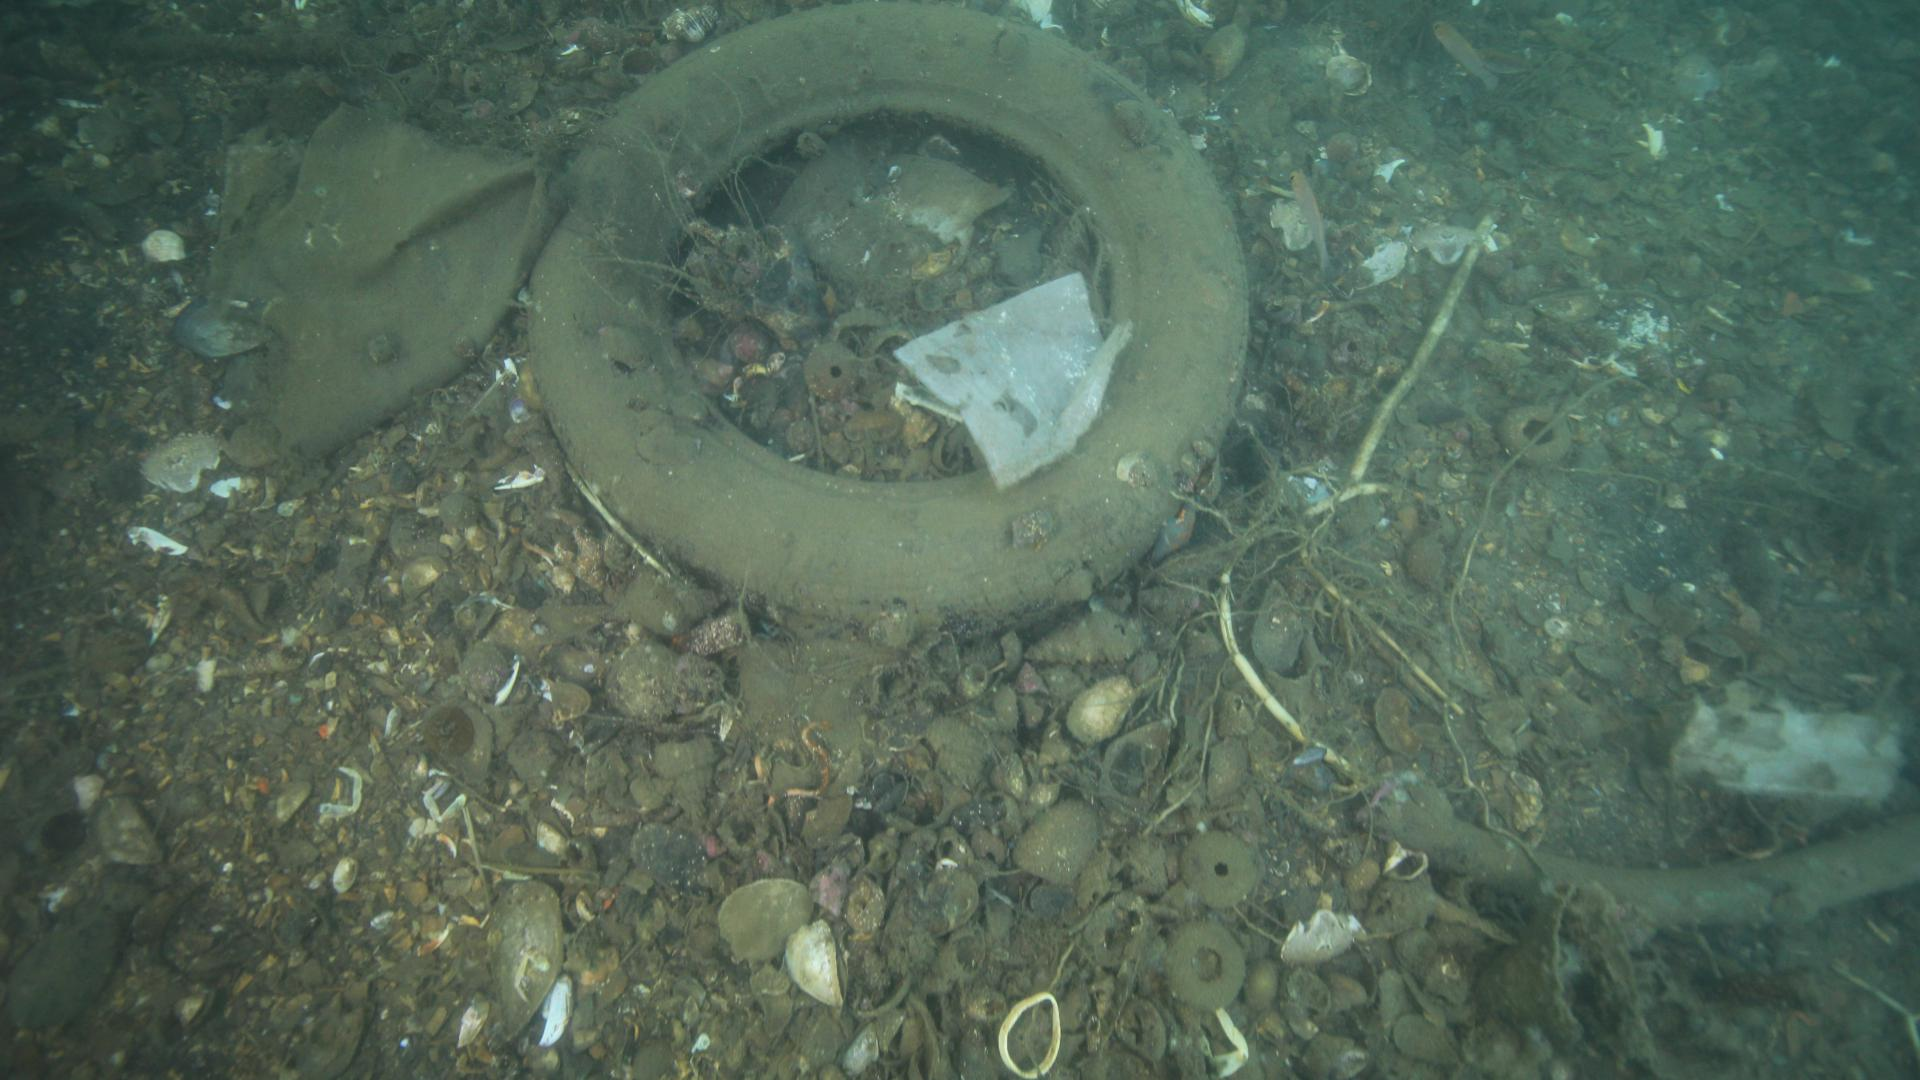tire: (516, 0, 1254, 632)
